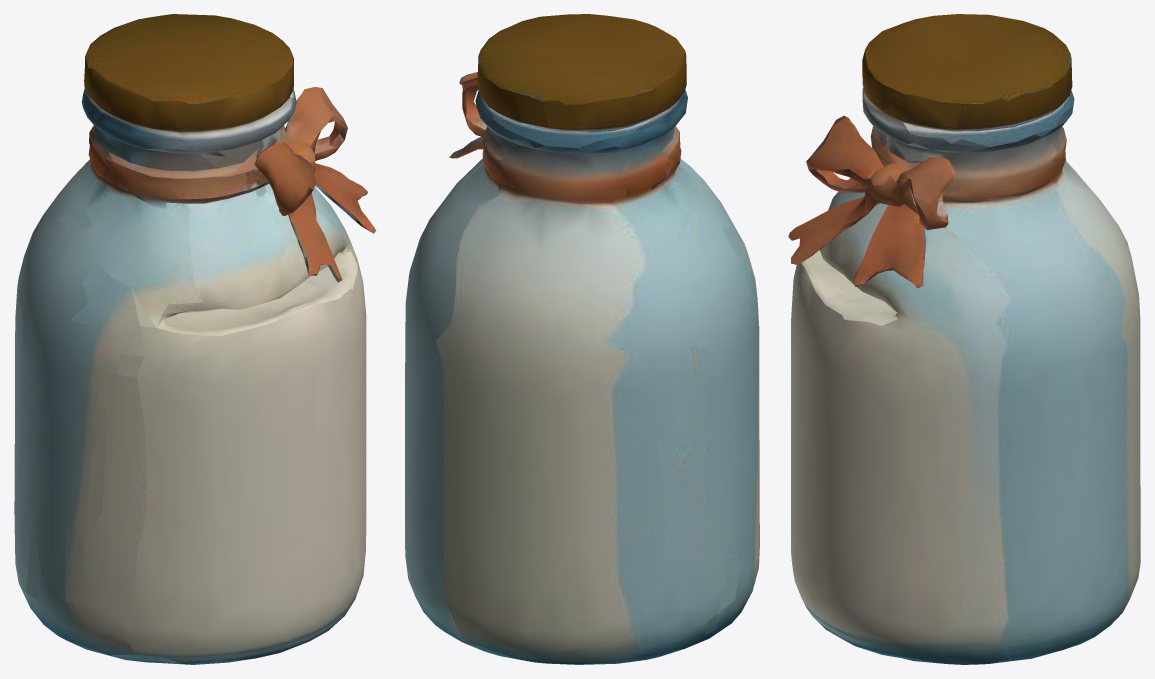
File: goat_milk_l.glb
The picture shows the model from 3 angles, left to right: view 1: azimuth 30°, elevation 25°; view 2: azimuth 150°, elevation 25°; view 3: azimuth 270°, elevation 25°; orthographic projection.
Parts seen in each view (by area): view 1: goat_milk_l; view 2: goat_milk_l; view 3: goat_milk_l.
Part boxes in pixels (x1,y1,x2,y2): goat_milk_l: [14, 14, 376, 664]; goat_milk_l: [405, 14, 759, 664]; goat_milk_l: [788, 14, 1140, 664].
Size of the model in its own units: 0.5911 by 1 by 0.5873.
1 material, 1 textured.
